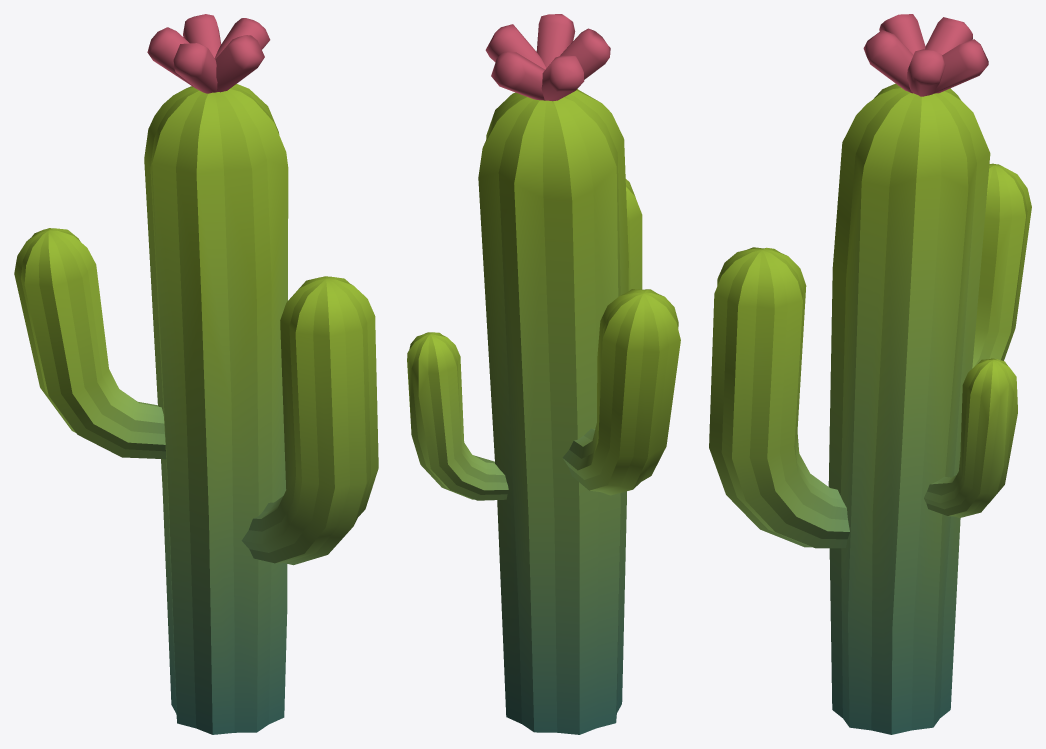
3 renders of one model, left to right at view 1: azimuth 30°, elevation 25°; view 2: azimuth 150°, elevation 25°; view 3: azimuth 270°, elevation 25°, orthographic. The views are drawn at different scales.
Parts seen in each view (by area): view 1: LOD 1_7895142726789826799_f747010238922ae448abd02d66270030; view 2: LOD 1_7895142726789826799_f747010238922ae448abd02d66270030; view 3: LOD 1_7895142726789826799_f747010238922ae448abd02d66270030.
Boxes of the visible parts, x1,y1,x2,y2 form: LOD 1_7895142726789826799_f747010238922ae448abd02d66270030: (14,14,378,734); LOD 1_7895142726789826799_f747010238922ae448abd02d66270030: (407,14,680,734); LOD 1_7895142726789826799_f747010238922ae448abd02d66270030: (709,14,1031,734).
Bounding box in the file's own units: 1.08 × 2.67 × 1.14.
